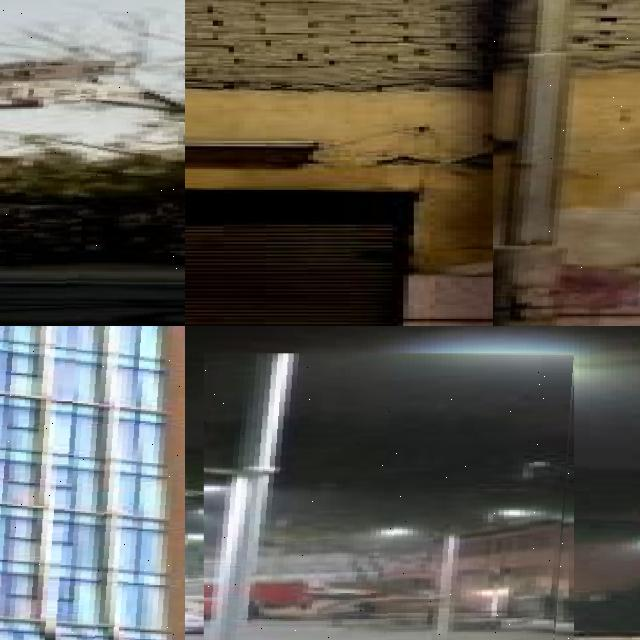street light: (204, 355, 575, 640), (0, 0, 185, 326), (0, 326, 185, 640), (493, 0, 640, 326), (185, 477, 288, 640), (373, 550, 473, 640), (185, 508, 235, 640)
